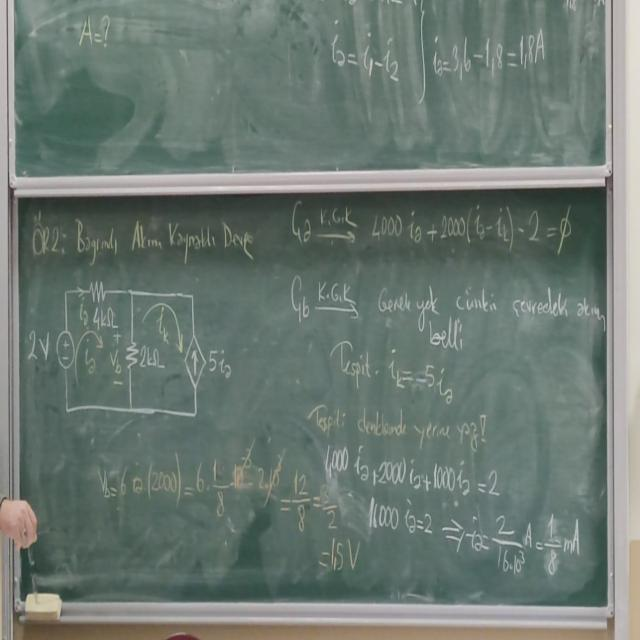image: (21, 275, 236, 428)
math: (80, 438, 320, 545), (321, 506, 589, 590), (282, 195, 579, 267), (321, 442, 513, 504), (324, 329, 461, 412), (429, 24, 548, 88), (326, 11, 404, 92)
text: (373, 275, 615, 355), (27, 202, 263, 274)
